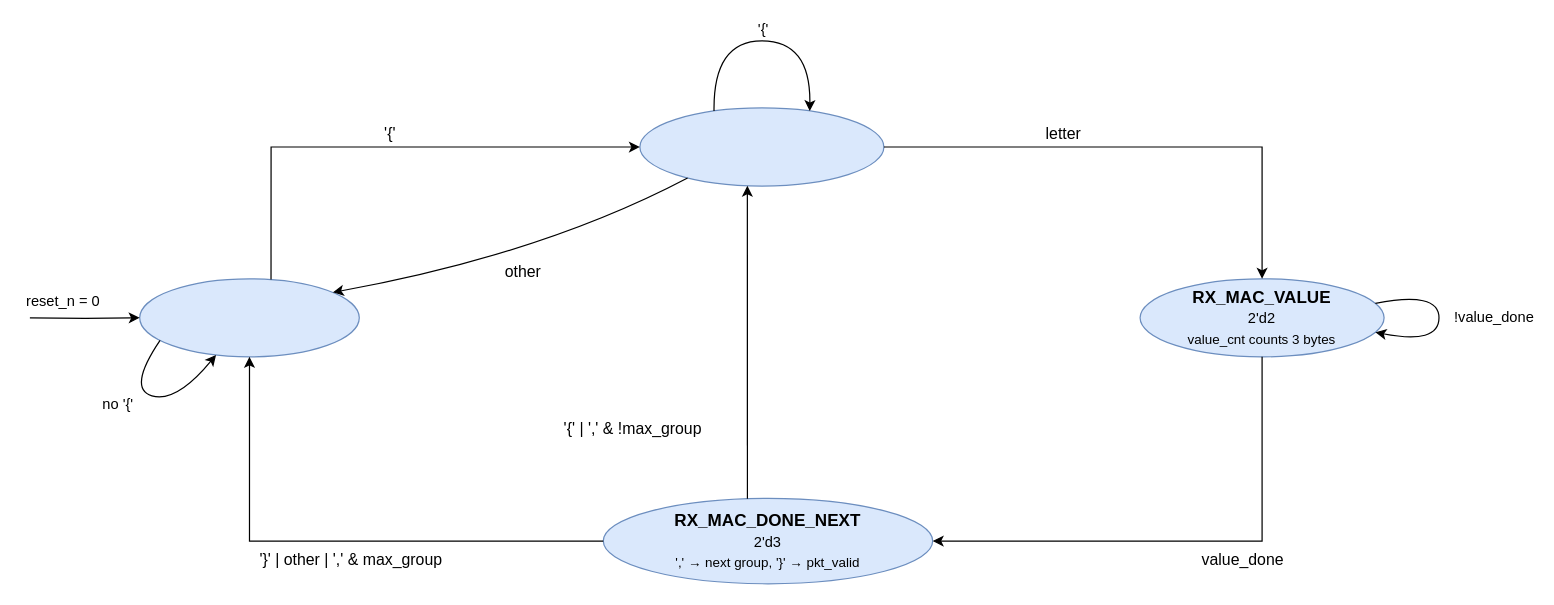
The diagram is 1554 pixels wide and 605 high, and some of its shapes have lost their labels. Each missing label, with the box of its shape:
RX_MAC_IDLE 2'd0: (138, 278, 359, 357)
RX_MAC_OPCODE 2'd1 wait for a letter (opcode): (639, 107, 884, 186)
